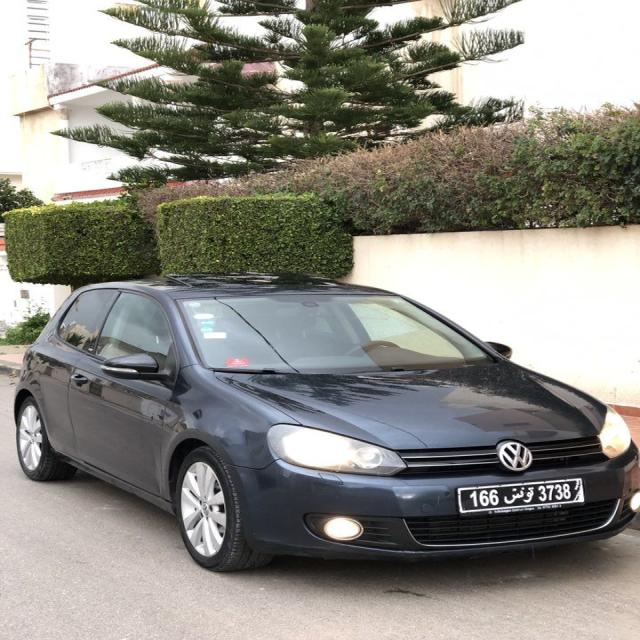LP: (456, 477, 583, 512)
